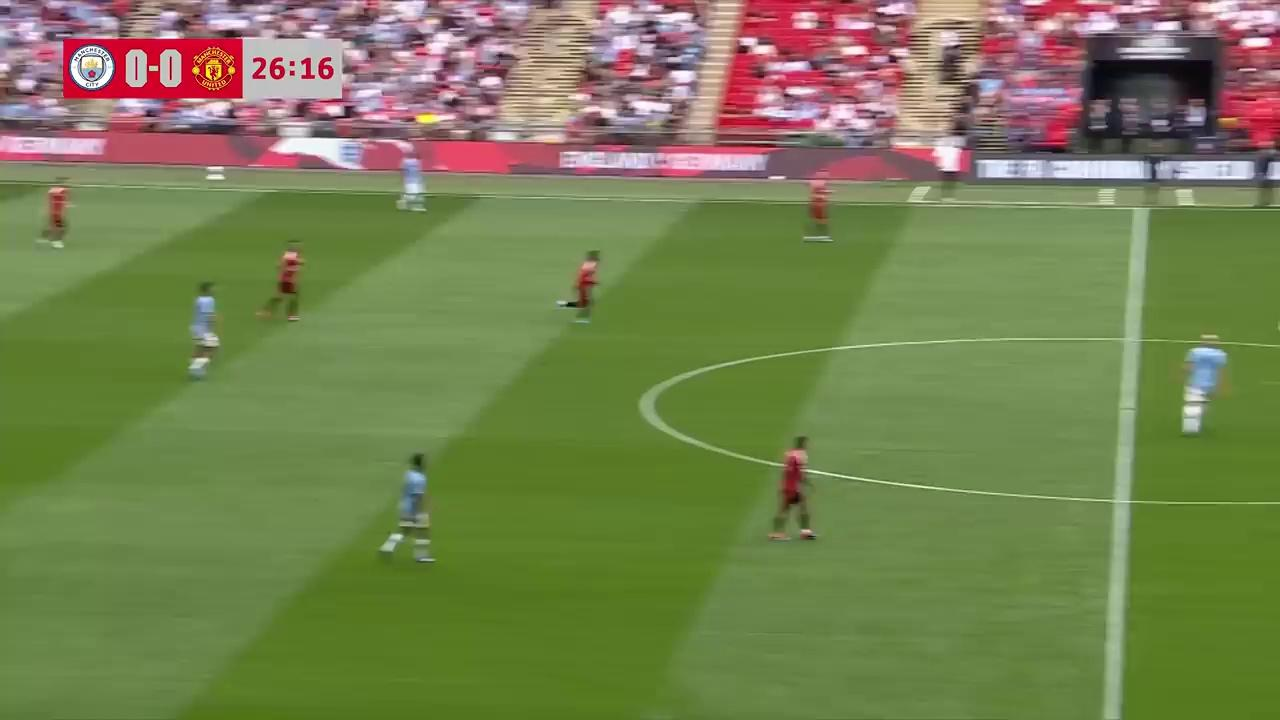player: (377, 453, 435, 562), (766, 436, 818, 543), (1179, 332, 1229, 436), (255, 243, 305, 321), (554, 251, 600, 326), (187, 282, 221, 379), (42, 180, 73, 249), (804, 173, 834, 243), (396, 154, 427, 212)
